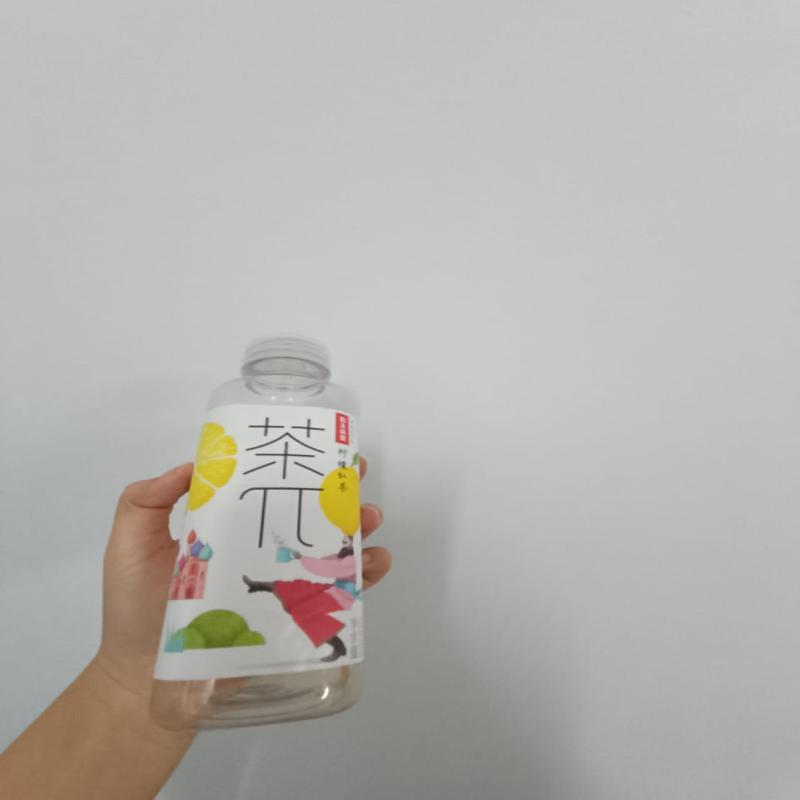botella: (142, 324, 377, 743)
